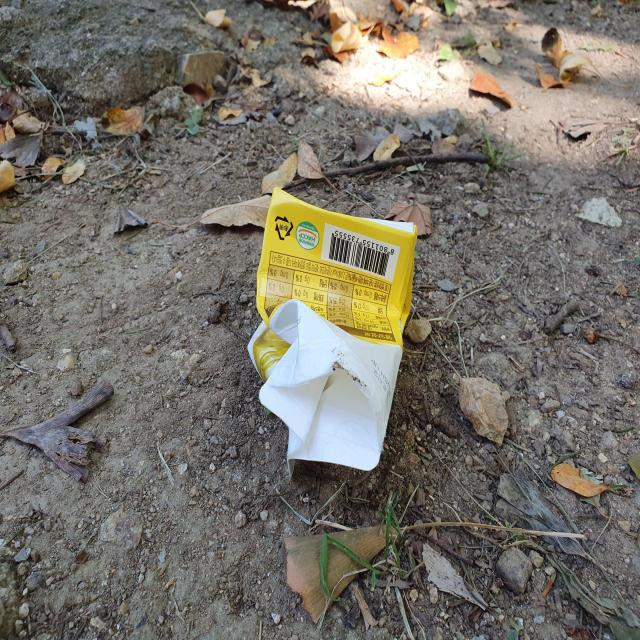paperpack: (248, 187, 418, 474)
